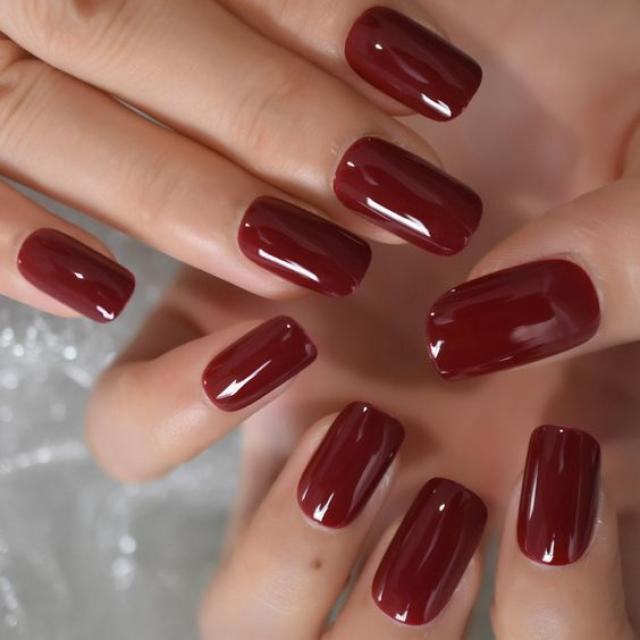Fingernail: (429, 259, 599, 379), (334, 137, 482, 255), (373, 478, 486, 626), (346, 7, 482, 120), (298, 403, 404, 528), (240, 199, 370, 297), (519, 426, 600, 566), (18, 229, 134, 322), (204, 317, 314, 411)
